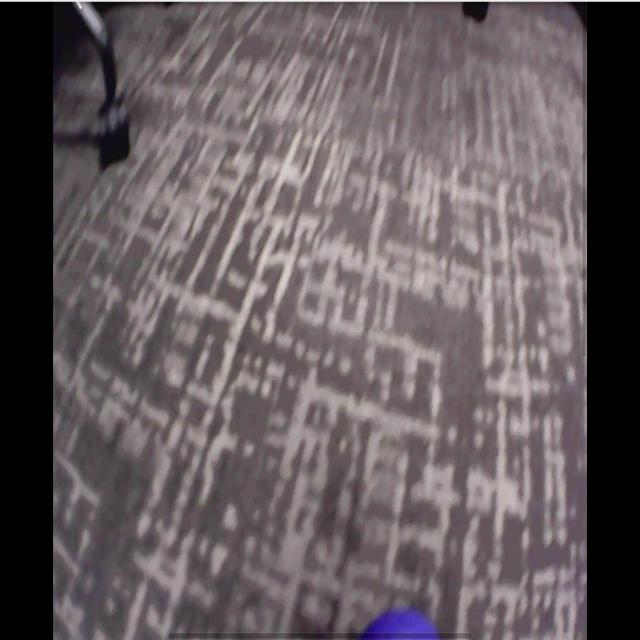ball: (364, 612, 444, 640)
